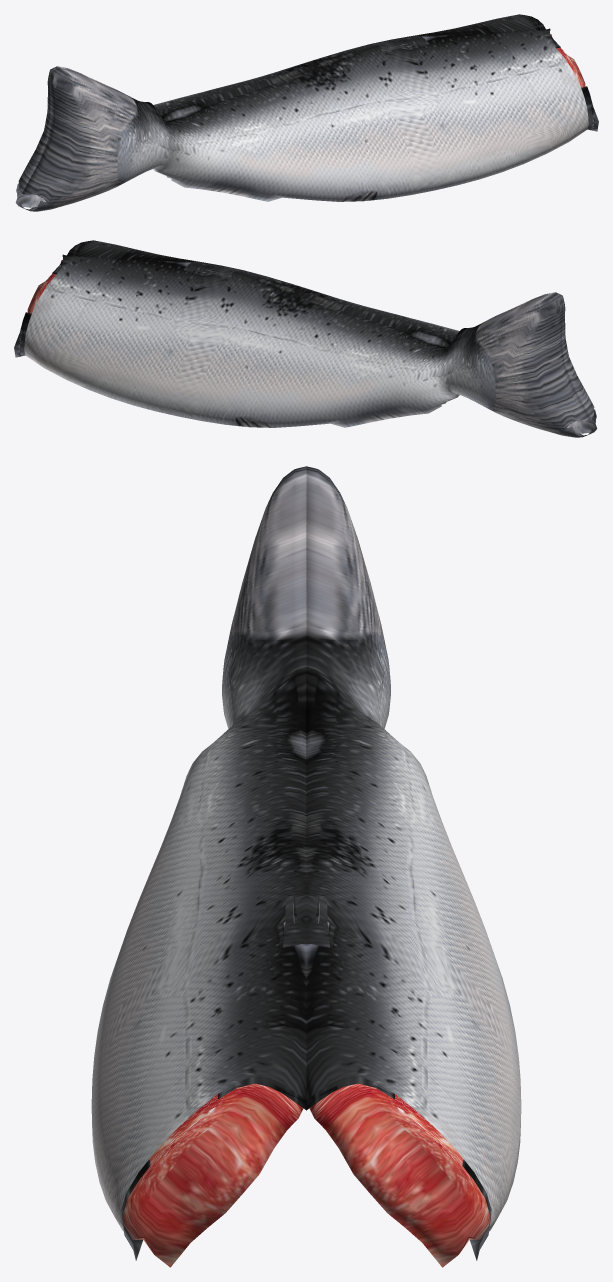
3 renders of one model, top to bottom at view 1: azimuth 30°, elevation 25°; view 2: azimuth 150°, elevation 25°; view 3: azimuth 270°, elevation 25°, orthographic. The views are drawn at different scales.
Parts seen in each view (by area): view 1: anden snit.002; view 2: anden snit.002; view 3: anden snit.002.
Boxes of the visible parts, x1,y1,x2,y2 form: anden snit.002: (15, 14, 598, 211); anden snit.002: (14, 240, 597, 437); anden snit.002: (91, 466, 521, 1267).
Bounding box in the file's own units: 654 × 190 × 224.
